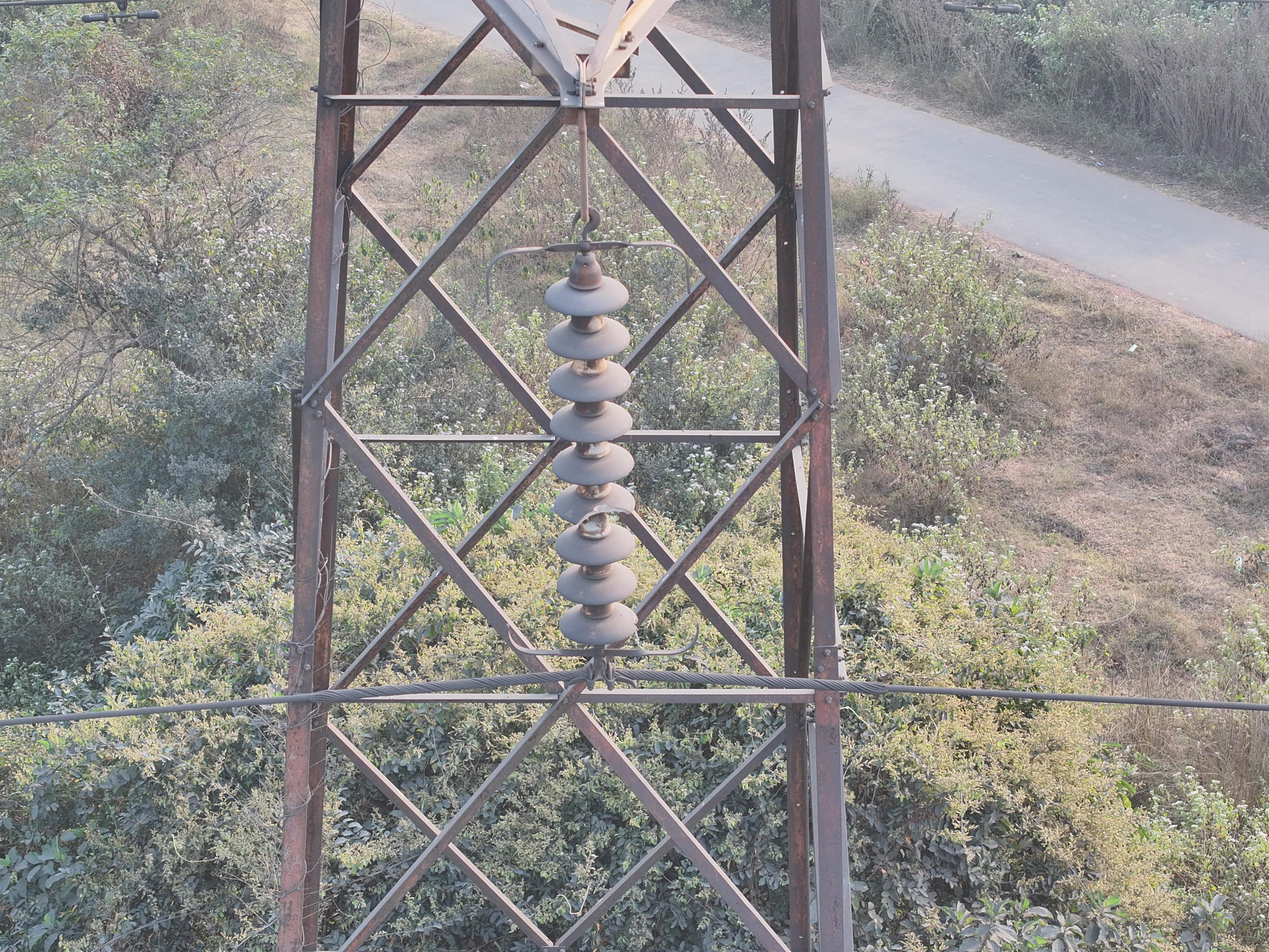broken_insulator: (552, 486, 636, 531), (558, 604, 641, 645)
